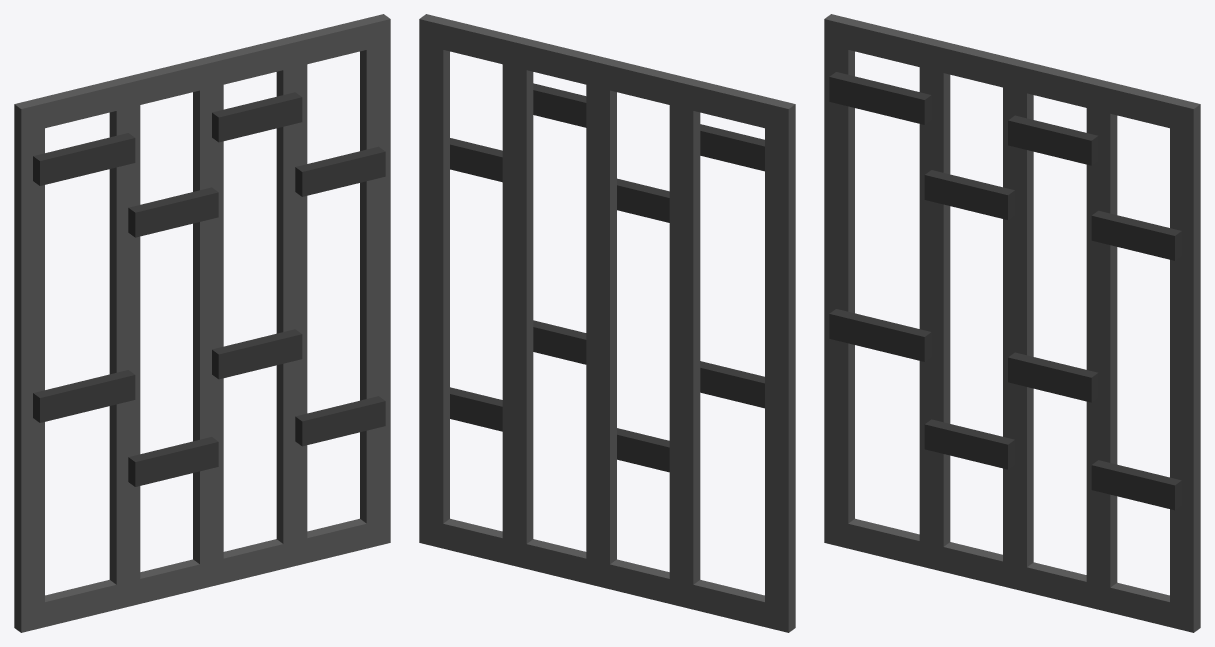
File: Prison-0.obj
3 views of the same model, side by side, from view 1: azimuth 30°, elevation 25°; view 2: azimuth 150°, elevation 25°; view 3: azimuth 330°, elevation 25° (orthographic).
Size of the model in its own units: 3.1 by 4.2 by 0.2.
Materials: 1 (1 with a texture image).
